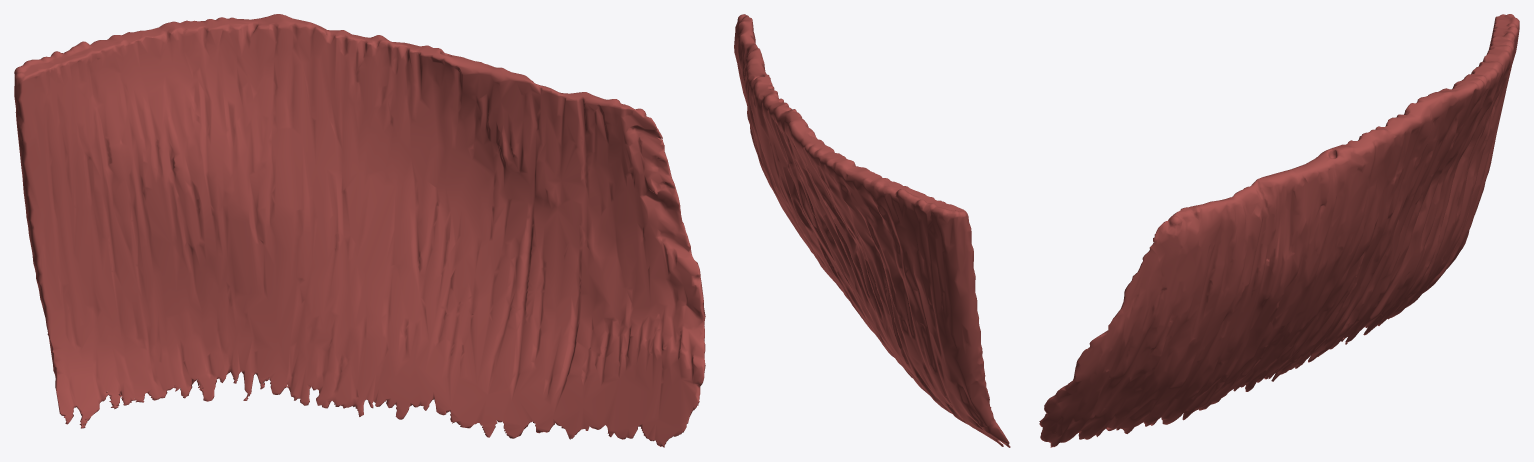
File: FMA46762.glb
3 views of the same model, side by side, from view 1: azimuth 30°, elevation 25°; view 2: azimuth 150°, elevation 25°; view 3: azimuth 270°, elevation 25° (orthographic). The views are drawn at different scales.
Visible parts, largest first — view 1: FMA46762; view 2: FMA46762; view 3: FMA46762.
Part boxes in pixels (box(x1,y1,x2,y2)): FMA46762: box(14, 14, 705, 447); FMA46762: box(734, 14, 1010, 447); FMA46762: box(1039, 14, 1519, 447).
Size of the model in its own units: 0.0451 by 0.032 by 0.045.
